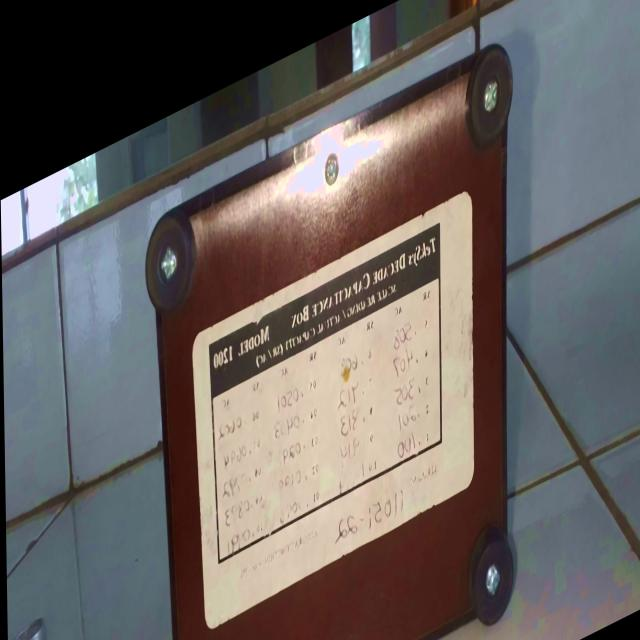Decade Capacitance Box: (138, 32, 532, 640)
